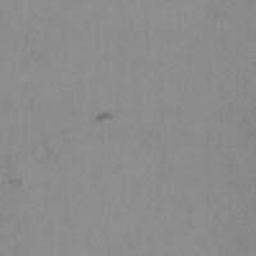Oil spot: (96, 112, 113, 121), (8, 179, 22, 185)
